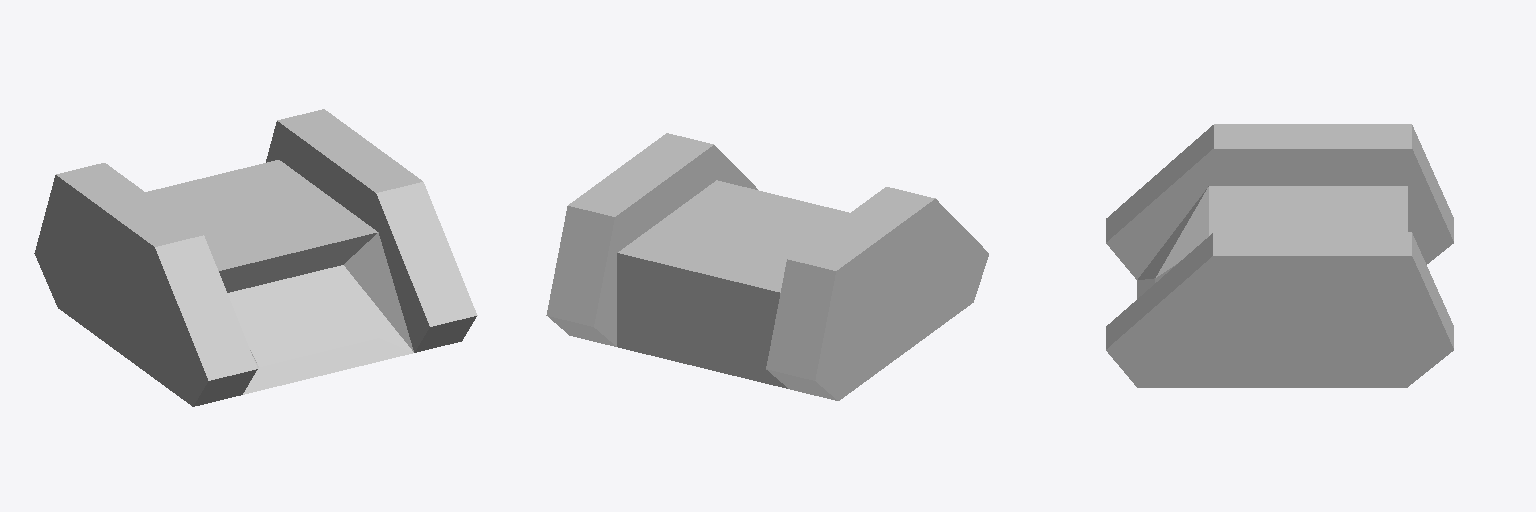
File: Rover.obj
3 renders of one model, left to right at view 1: azimuth 30°, elevation 25°; view 2: azimuth 150°, elevation 25°; view 3: azimuth 270°, elevation 25°, orthographic.
Parts seen in each view (by area): view 1: Cube; view 2: Cube; view 3: Cube.
Boxes of the visible parts, x1=… form: Cube: x1=34, y1=109, x2=477, y2=406; Cube: x1=546, y1=133, x2=988, y2=400; Cube: x1=1106, y1=124, x2=1453, y2=387.
Size of the model in its own units: 0.3124 by 0.1465 by 0.3511.